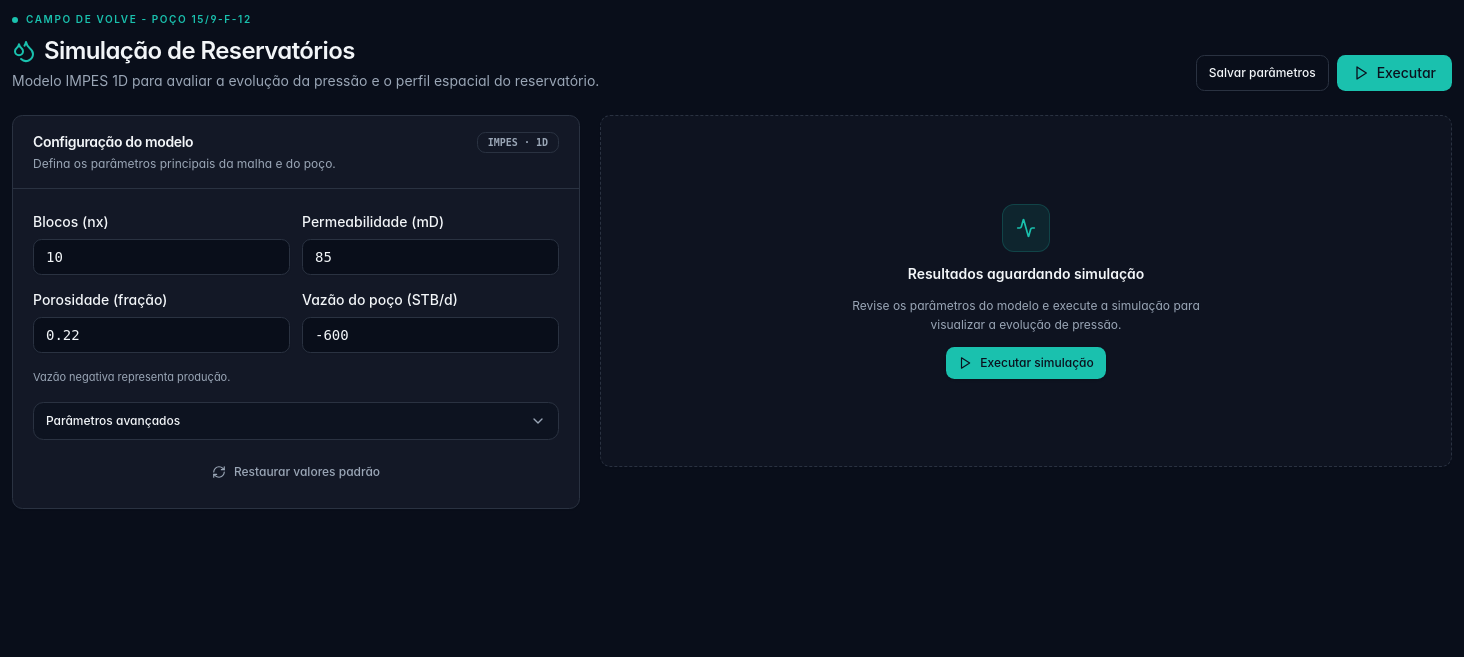
it: ReservoirSimulationView workspace › saves a completed run to the authenticated account
This screenshot has width=1464, height=657.
Click the button "Executar" at (1394, 73), box [1337,55,1452,91]
Wait 350 ms
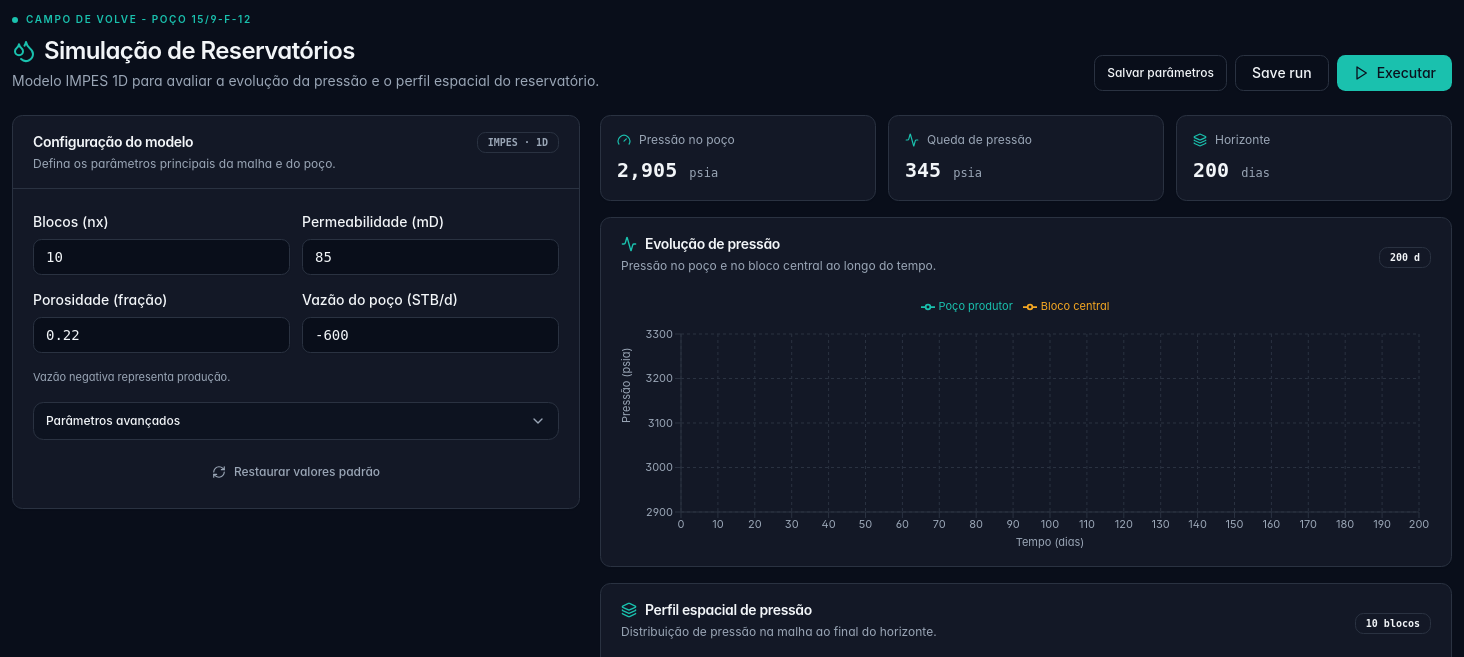
Click the button "Save run" at (1282, 73), box [1235,55,1329,91]
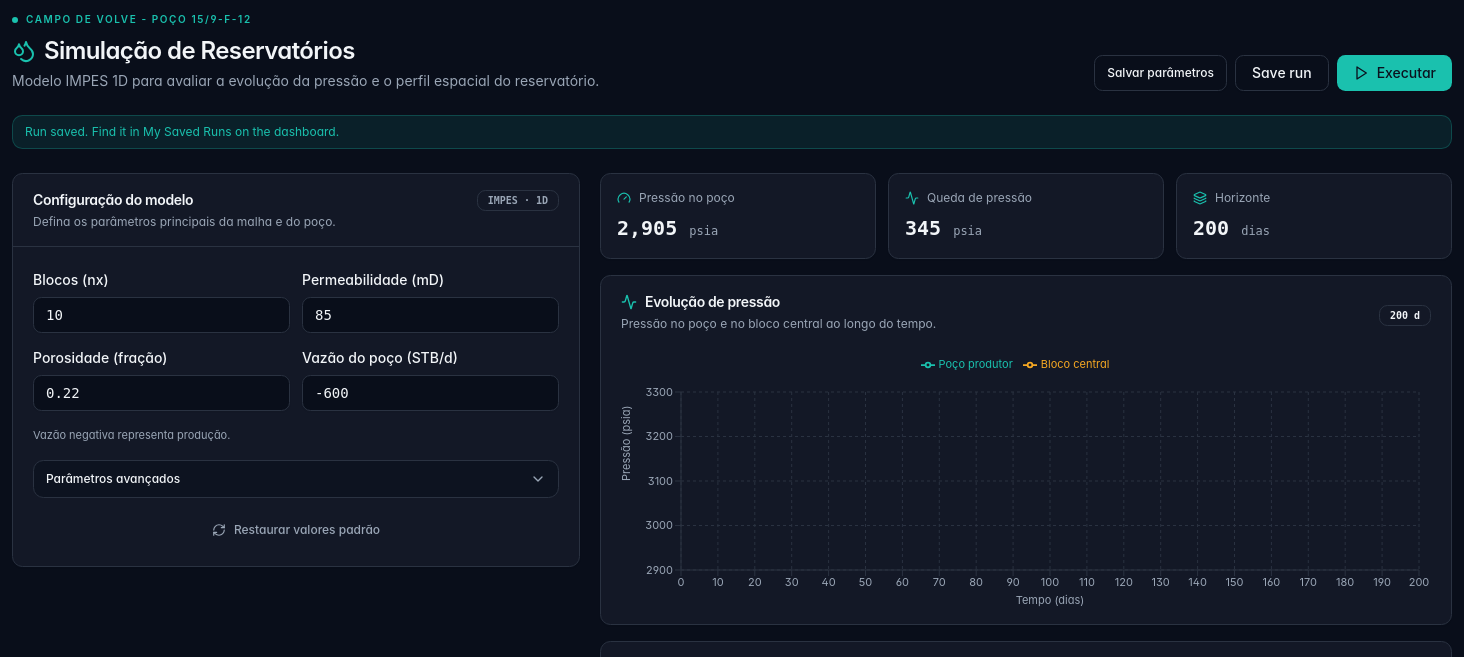
expect the message shows "Run saved.": met, box [25,124,339,139]
